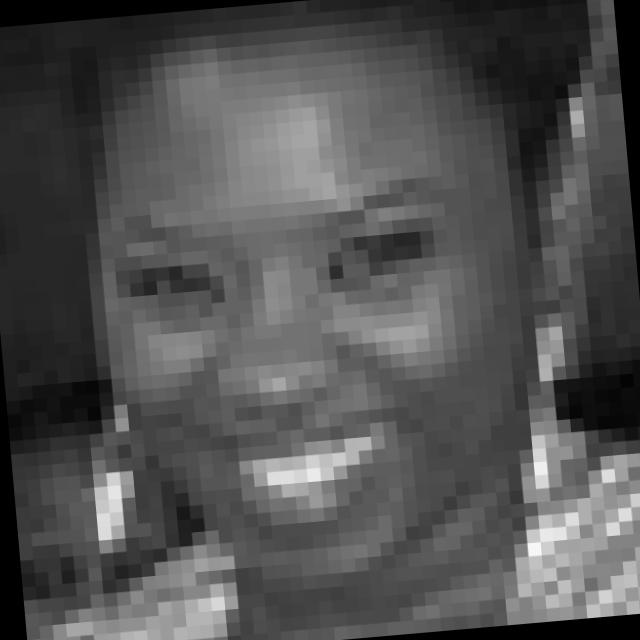happy: (100, 171, 480, 564)
